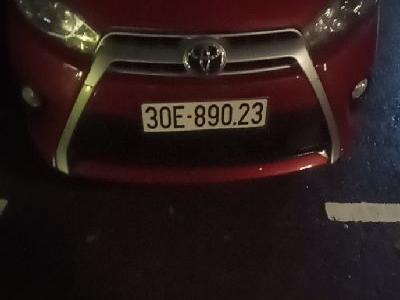number: (140, 98, 266, 131)
